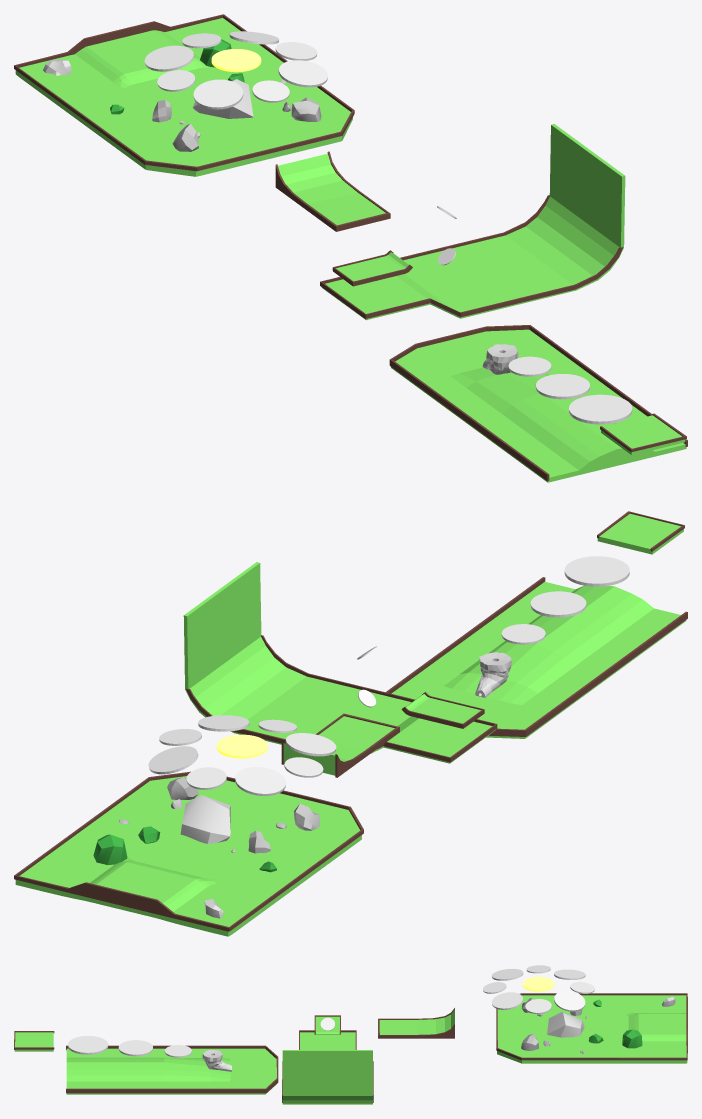
The model's file is HoleSet04_Clouds.fbx.
3 renders of one model, top to bottom at view 1: azimuth 30°, elevation 25°; view 2: azimuth 150°, elevation 25°; view 3: azimuth 270°, elevation 25°, orthographic. The views are drawn at different scales.
Visible parts, largest first — view 1: Cube.072, Cube.076, Cube.068, Cube.071, Cube.074, Cube.069, Cube.078, Cube.067, Cylinder.026, Cube.073, Cylinder.036, Cylinder.027 (+7 smaller); view 2: Cube.072, Cube.076, Cube.068, Cube.074, Cube.069, Cube.071, Cube.067, rock.306, Cube.078, Cylinder.026, Cylinder.027, Cylinder.037 (+12 smaller); view 3: Cube.072, Cube.068, Cube.076, Cube.069, Cube.074, Cube.071, rock.306, Cube.067, Cylinder.026, Cube.073, Cylinder.035, Cylinder.027 (+11 smaller).
Boxes of the visible parts, bbox=[...] form: Cube.072: bbox=[15, 18, 352, 176]; Cube.076: bbox=[321, 124, 625, 320]; Cube.068: bbox=[391, 329, 686, 482]; Cube.071: bbox=[278, 153, 385, 225]; Cube.074: bbox=[14, 14, 354, 171]; Cube.069: bbox=[389, 325, 687, 480]; Cube.078: bbox=[320, 195, 623, 318]; Cube.067: bbox=[601, 415, 685, 455]; Cylinder.026: bbox=[569, 394, 632, 424]; Cube.073: bbox=[275, 151, 390, 231]; Cylinder.036: bbox=[193, 79, 243, 109]; Cylinder.027: bbox=[535, 374, 589, 399]; Cube.072: bbox=[15, 776, 361, 936]; Cube.076: bbox=[183, 562, 495, 763]; Cube.068: bbox=[391, 582, 686, 738]; Cube.074: bbox=[14, 771, 363, 931]; Cube.069: bbox=[386, 577, 687, 736]; Cube.071: bbox=[283, 716, 394, 775]; Cube.067: bbox=[597, 513, 683, 554]; rock.306: bbox=[180, 795, 230, 843]; Cube.078: bbox=[186, 635, 497, 762]; Cylinder.026: bbox=[564, 556, 629, 586]; Cylinder.027: bbox=[530, 591, 586, 617]; Cylinder.037: bbox=[235, 767, 285, 796]; Cube.072: bbox=[497, 995, 687, 1063]; Cube.068: bbox=[66, 1048, 276, 1094]; Cube.076: bbox=[282, 1032, 372, 1104]; Cube.069: bbox=[66, 1045, 278, 1093]; Cube.074: bbox=[496, 993, 687, 1060]; Cube.071: bbox=[379, 1009, 454, 1034]; rock.306: bbox=[547, 1012, 584, 1037]; Cube.067: bbox=[14, 1032, 53, 1051]; Cylinder.026: bbox=[68, 1036, 108, 1054]; Cube.073: bbox=[378, 1008, 454, 1038]; Cylinder.035: bbox=[554, 990, 585, 1011]; Cylinder.027: bbox=[118, 1040, 152, 1056].
Size of the model in its own units: 2266 by 1013 by 7125.
